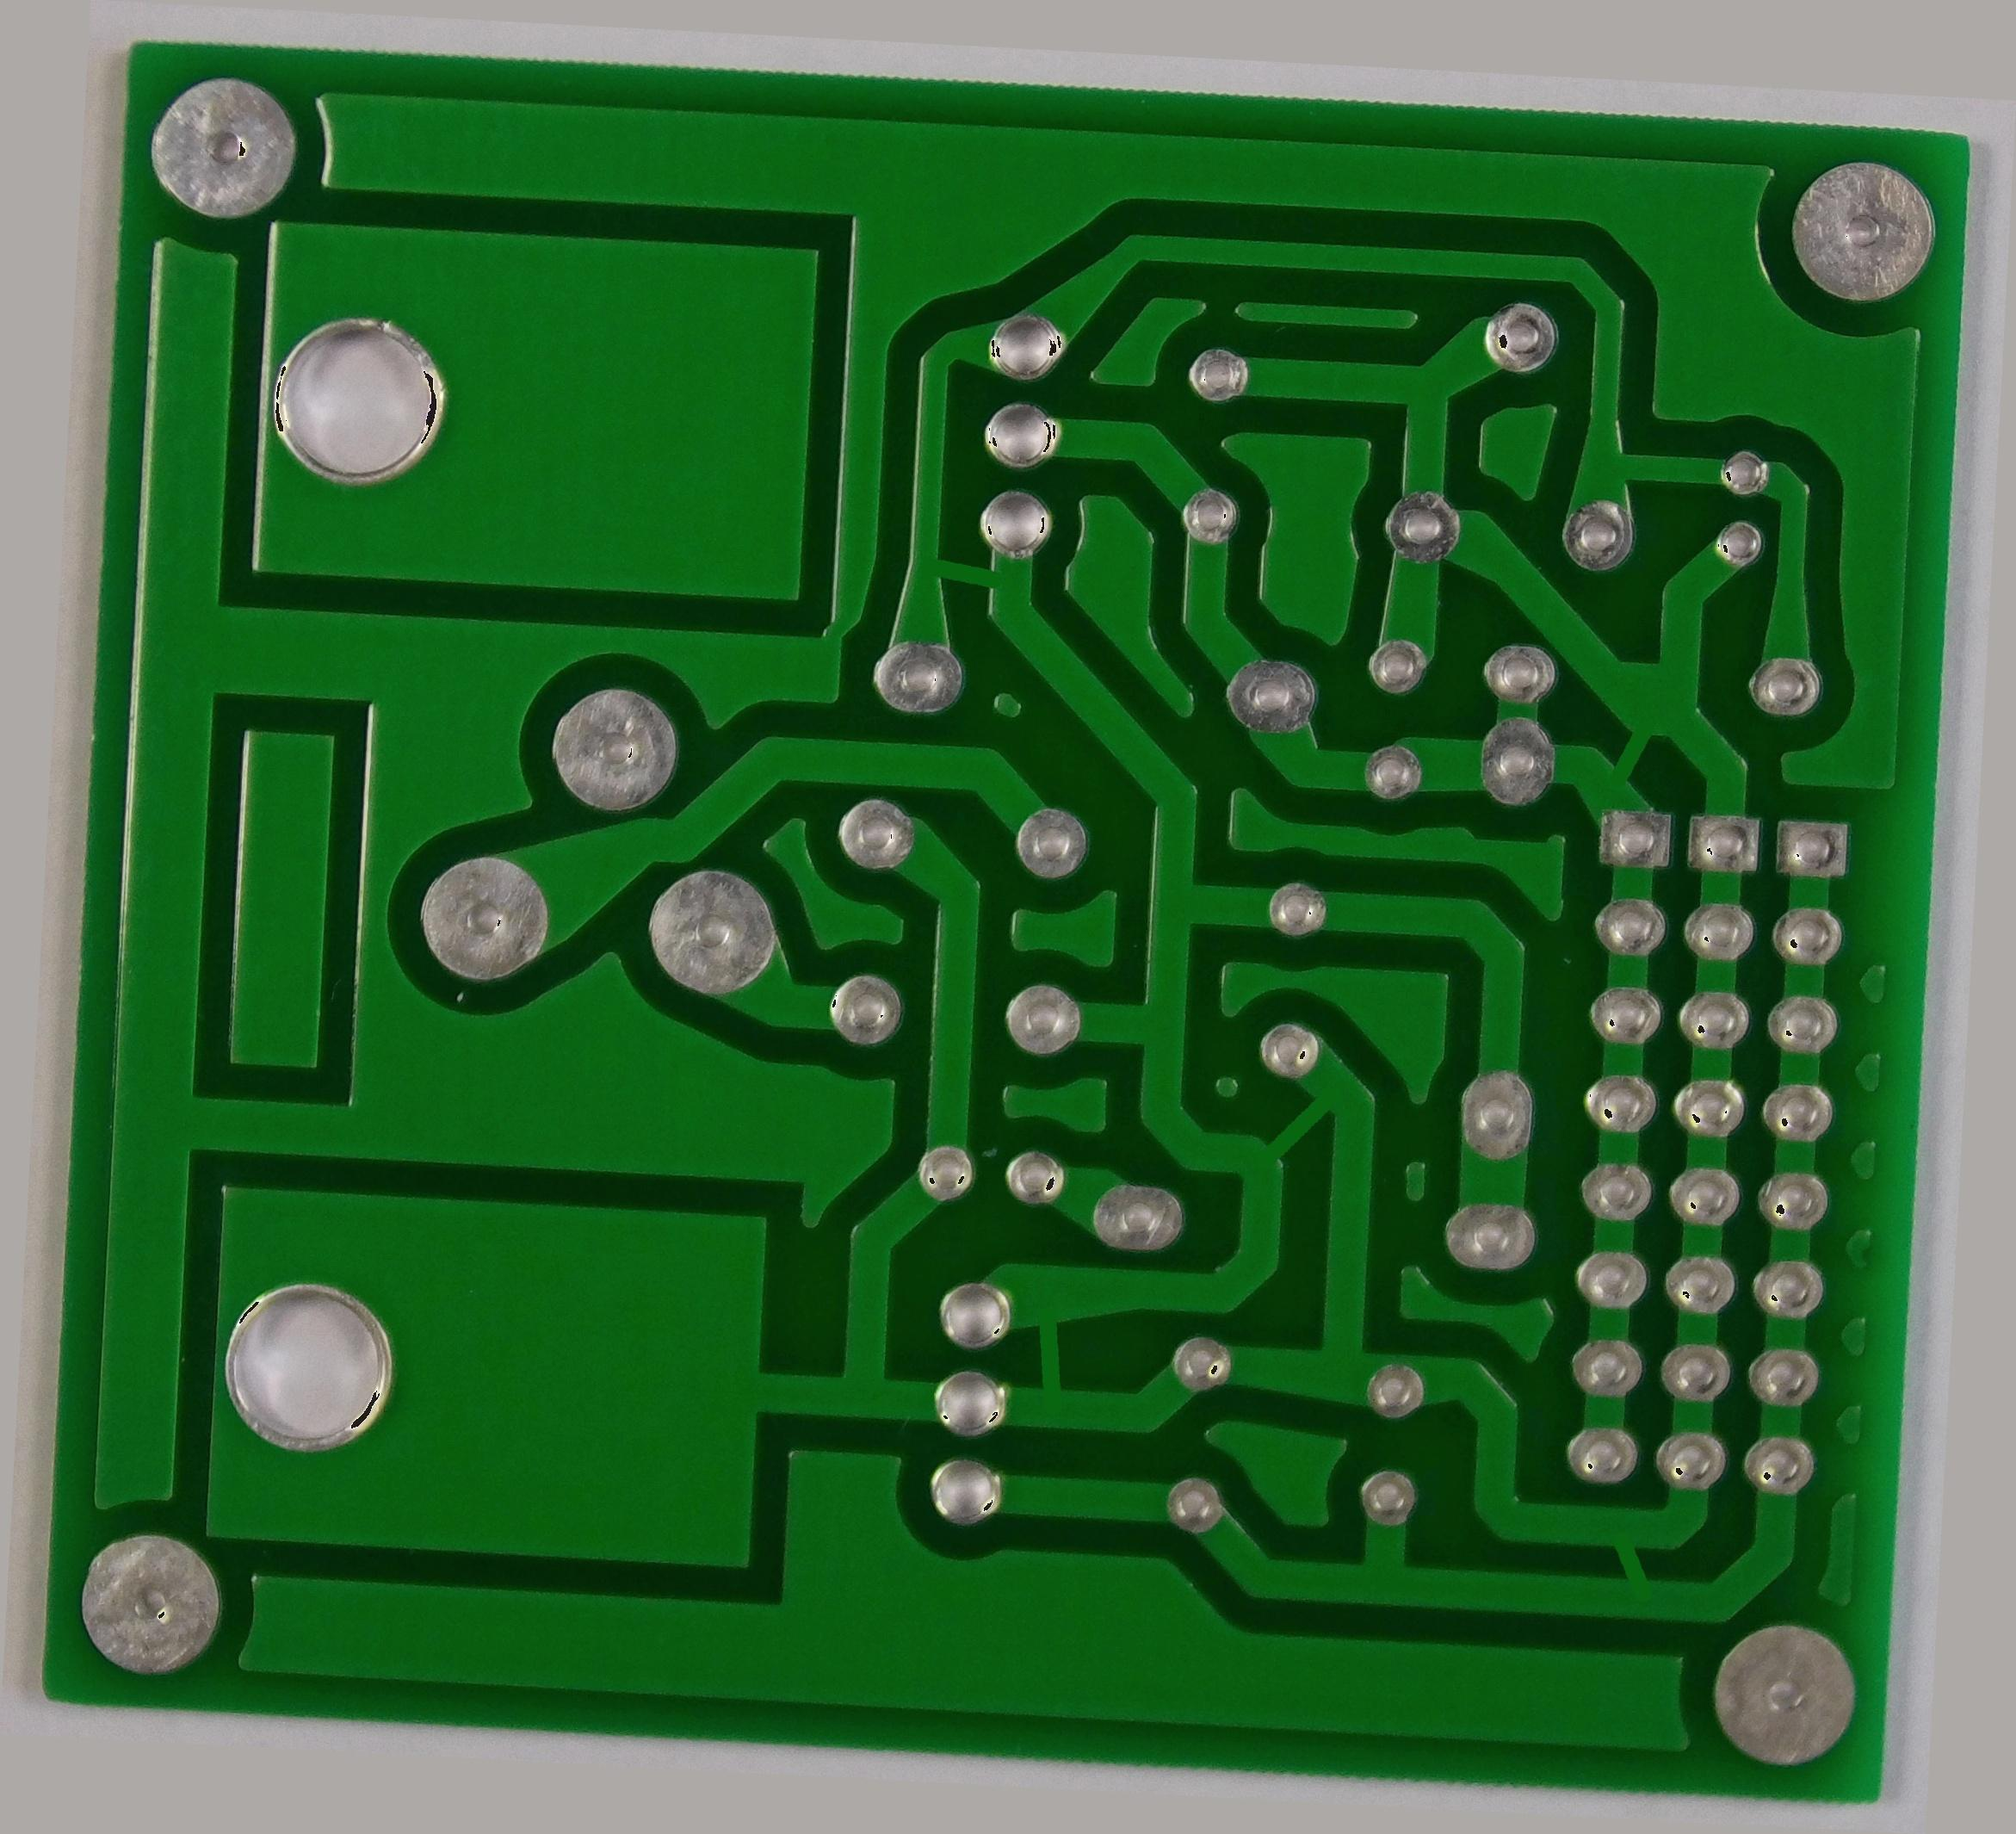short: (1222, 1063, 1359, 1173), (997, 1295, 1110, 1419), (897, 522, 1033, 625), (1579, 690, 1684, 805), (1575, 1513, 1677, 1621)
